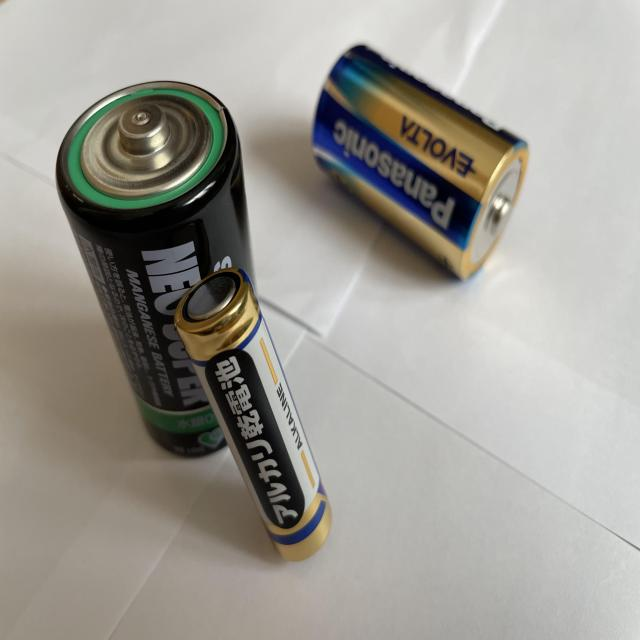AA: (176, 268, 332, 564)
